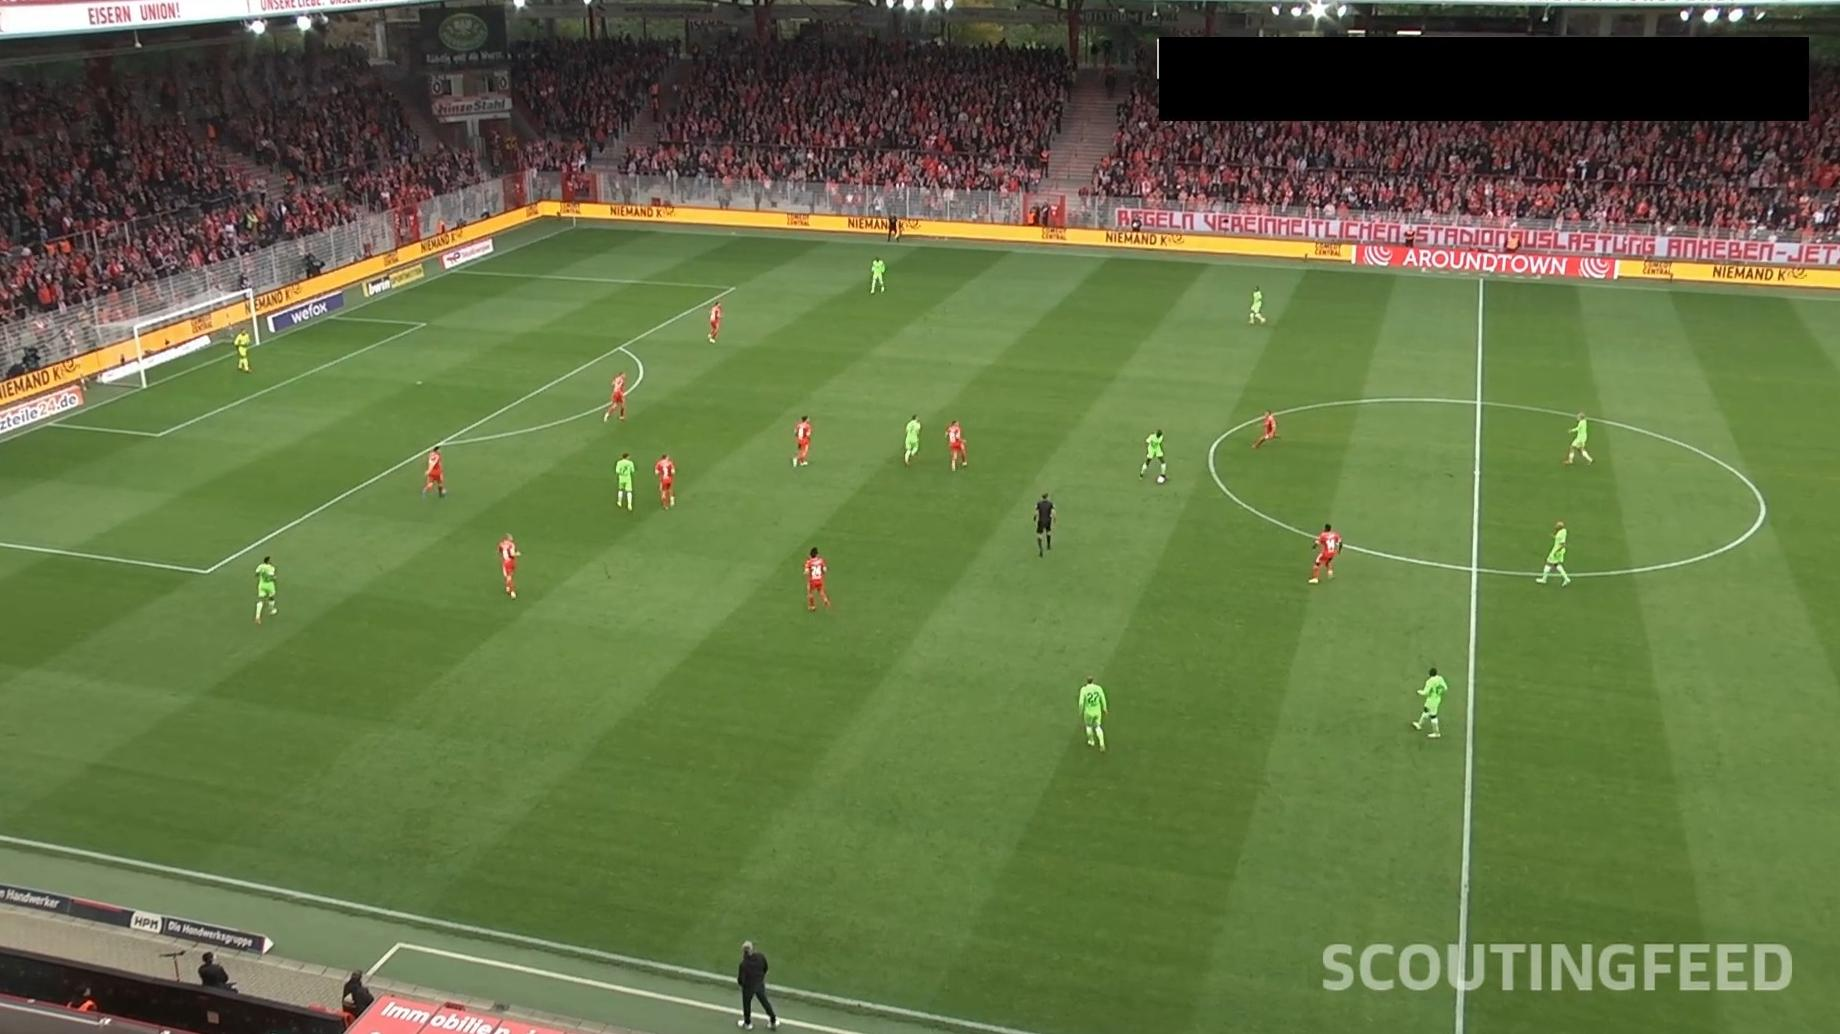ball: (1155, 474, 1165, 485)
